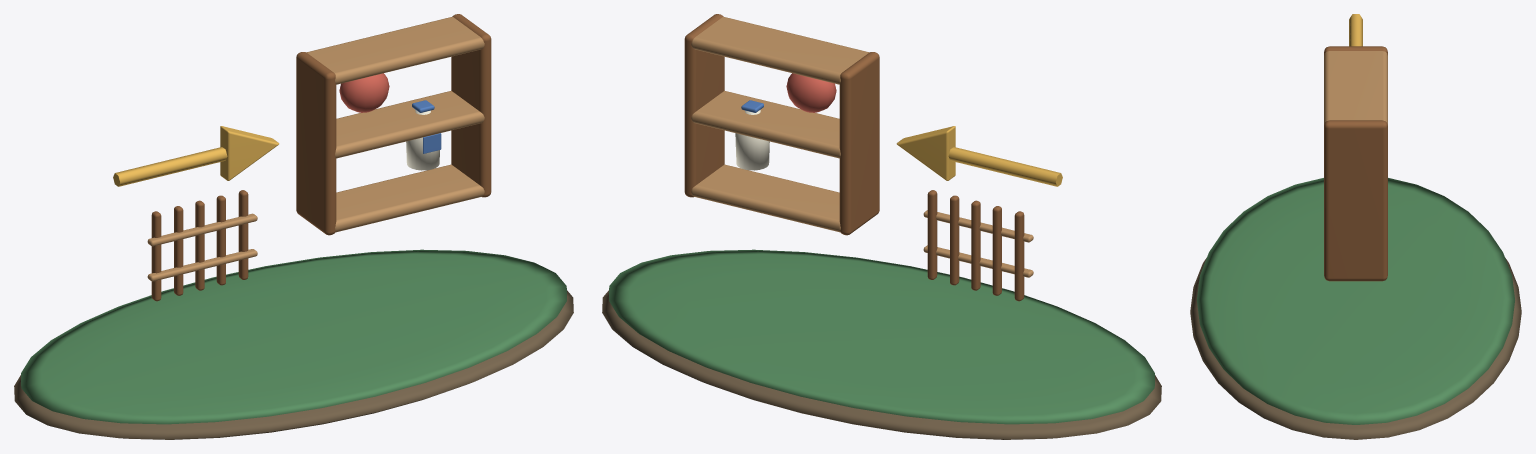
The model's file is complete-second-beyond-market.glb.
3 renders of one model, left to right at view 1: azimuth 30°, elevation 25°; view 2: azimuth 150°, elevation 25°; view 3: azimuth 270°, elevation 25°, orthographic. The views are drawn at different scales.
Visible parts, largest first — view 1: complete-second-beyond-market_surface_01, complete-second-beyond-market_surface_03, complete-second-beyond-market_surface_04, complete-second-beyond-market_surface_00, complete-second-beyond-market_surface_02, complete-second-beyond-market_surface_05, complete-second-beyond-market_surface_07; view 2: complete-second-beyond-market_surface_01, complete-second-beyond-market_surface_03, complete-second-beyond-market_surface_04, complete-second-beyond-market_surface_00, complete-second-beyond-market_surface_02, complete-second-beyond-market_surface_05, complete-second-beyond-market_surface_07; view 3: complete-second-beyond-market_surface_01, complete-second-beyond-market_surface_04, complete-second-beyond-market_surface_00, complete-second-beyond-market_surface_03, complete-second-beyond-market_surface_02.
Boxes of the visible parts, x1,y1,x2,y2 form: complete-second-beyond-market_surface_01: [21, 249, 566, 424]; complete-second-beyond-market_surface_03: [147, 17, 484, 281]; complete-second-beyond-market_surface_04: [151, 14, 491, 301]; complete-second-beyond-market_surface_00: [14, 290, 573, 439]; complete-second-beyond-market_surface_02: [113, 126, 279, 186]; complete-second-beyond-market_surface_05: [339, 73, 389, 112]; complete-second-beyond-market_surface_07: [406, 110, 439, 170]; complete-second-beyond-market_surface_01: [609, 249, 1154, 424]; complete-second-beyond-market_surface_03: [691, 17, 1033, 277]; complete-second-beyond-market_surface_04: [684, 14, 1024, 301]; complete-second-beyond-market_surface_00: [602, 290, 1161, 439]; complete-second-beyond-market_surface_02: [896, 126, 1062, 186]; complete-second-beyond-market_surface_05: [786, 73, 836, 112]; complete-second-beyond-market_surface_07: [735, 110, 769, 170]; complete-second-beyond-market_surface_01: [1197, 178, 1514, 424]; complete-second-beyond-market_surface_04: [1324, 46, 1387, 281]; complete-second-beyond-market_surface_00: [1190, 258, 1521, 439]; complete-second-beyond-market_surface_03: [1324, 51, 1387, 125]; complete-second-beyond-market_surface_02: [1349, 14, 1362, 46].
Bounding box in the file's own units: 4.56 × 2.42 × 2.5.
